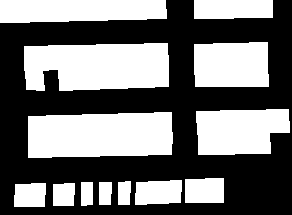parkingspot: (24, 43, 168, 70), (28, 112, 171, 138), (0, 0, 166, 22), (28, 132, 172, 157), (58, 65, 168, 90), (196, 109, 289, 134), (194, 62, 268, 86), (194, 42, 267, 65), (198, 131, 270, 154), (194, 0, 272, 18), (135, 180, 181, 204), (185, 178, 223, 202), (14, 183, 45, 206), (53, 183, 74, 205), (25, 68, 44, 90), (118, 181, 130, 204), (99, 182, 111, 204), (81, 182, 92, 205)
